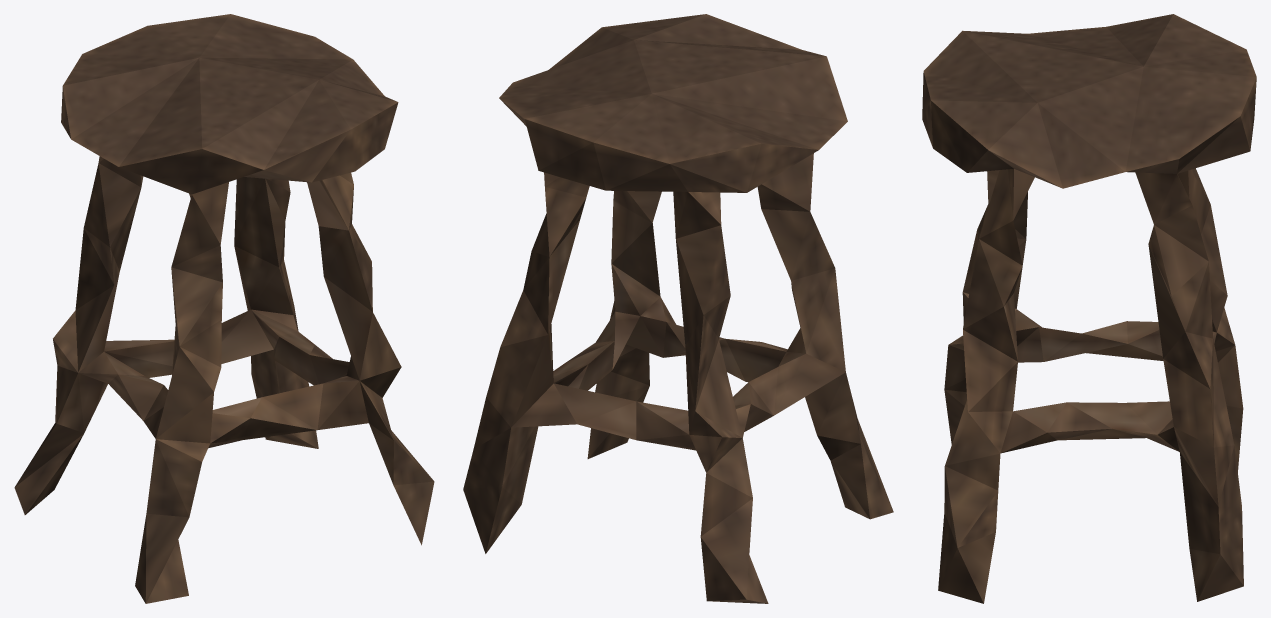
File: prop_stool.glb
3 renders of one model, left to right at view 1: azimuth 30°, elevation 25°; view 2: azimuth 150°, elevation 25°; view 3: azimuth 270°, elevation 25°, orthographic. The views are drawn at different scales.
Visible parts, largest first — view 1: lp.obj; view 2: lp.obj; view 3: lp.obj.
Part boxes in pixels (x1,y1,x2,y2): lp.obj: (14,14,434,603); lp.obj: (463,14,893,603); lp.obj: (922,14,1256,603).
Bounding box in the file's own units: 0.3124 × 0.4558 × 0.2964.
1 material, 1 textured.
